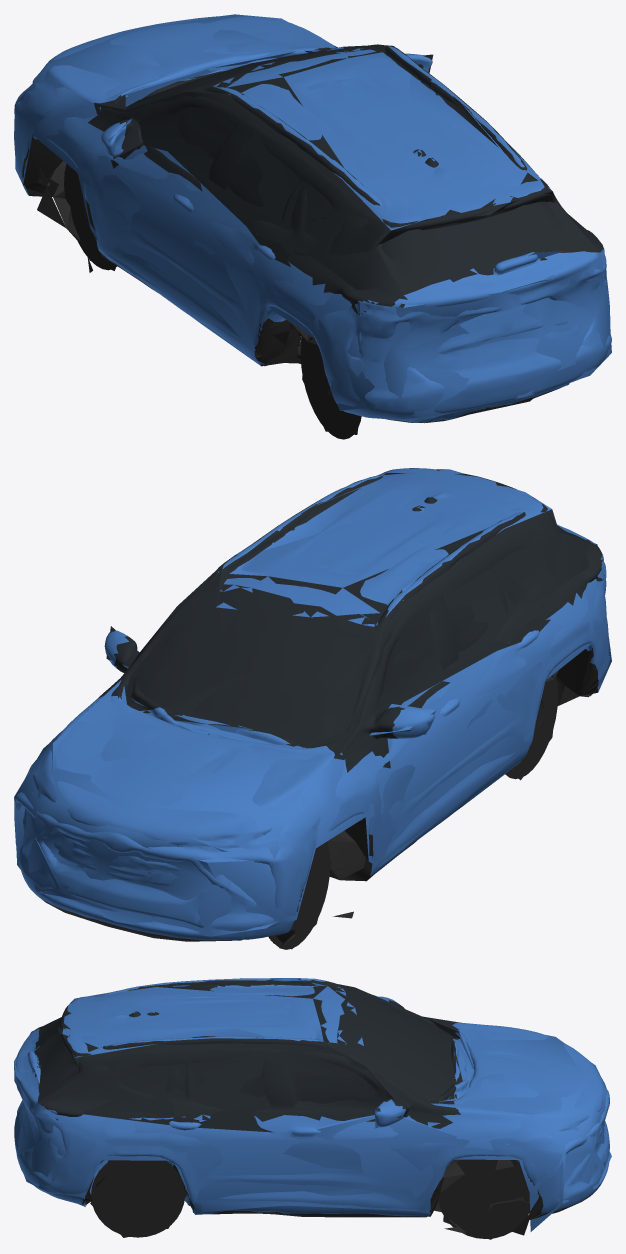
File: chevrolet-trax.glb
3 renders of one model, top to bottom at view 1: azimuth 30°, elevation 25°; view 2: azimuth 150°, elevation 25°; view 3: azimuth 270°, elevation 25°, orthographic. The views are drawn at different scales.
Parts seen in each view (by area): view 1: body, far; view 2: body, far; view 3: body, far.
Boxes of the visible parts, bbox=[...] form: body: bbox=[14, 16, 611, 439]; far: bbox=[15, 14, 611, 434]; body: bbox=[14, 468, 610, 949]; far: bbox=[14, 469, 611, 949]; body: bbox=[14, 978, 609, 1238]; far: bbox=[14, 979, 611, 1239].
Size of the model in its own units: 2.17 by 1.65 by 4.59.
